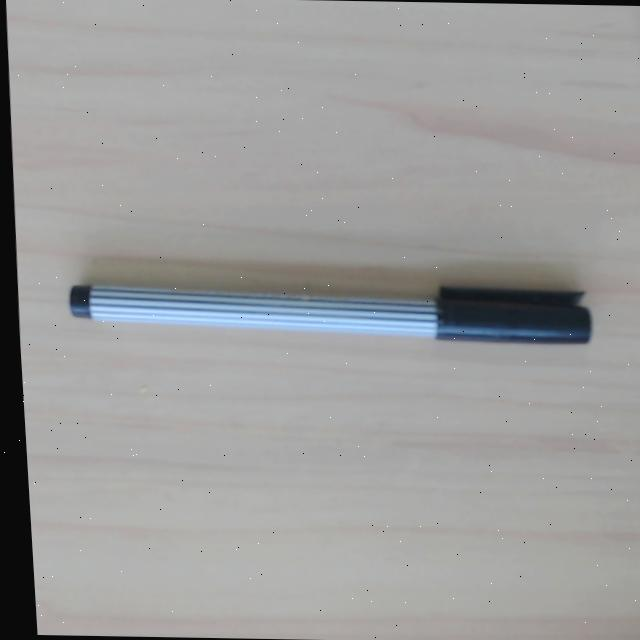Pulpen-Garis-Hitam: (68, 277, 593, 344)
